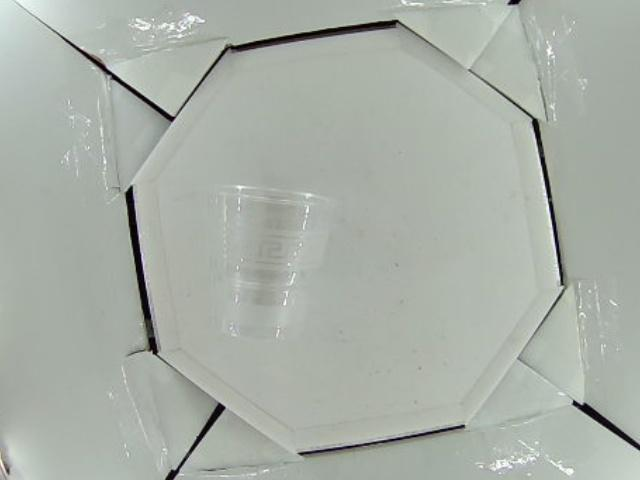Cup: (211, 184, 330, 339)
